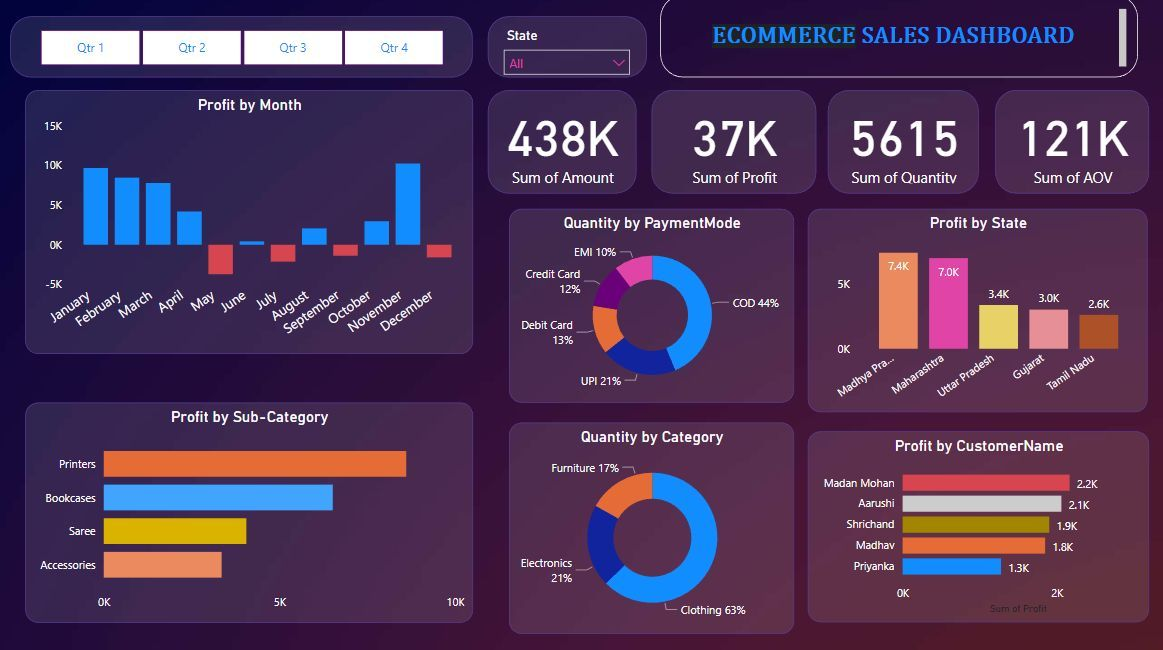

Layout of this report page (visuals, bound fields, positions):
{"tool":"powerbi","page":{"name":"Page 1","canvas":[1280,720],"ordinal":0},"visuals":[{"type":"clusteredColumnChart","title":"Profit by Month","fields":{"Y":["Details.Profit"],"Category":["Orders.Order Date.Variation.Date Hierarchy.Month"]},"box":[28.8,104.2,490.8,289.3],"z":0},{"type":"textbox","box":[725.3,0,523.7,90.5],"z":1000},{"type":"barChart","title":"Profit by Sub-Category","fields":{"Category":["Details.Sub-Category"],"Y":["Details.Profit"]},"box":[28.8,447,490.8,241.3],"z":2000},{"type":"donutChart","title":"Quantity by Category","fields":{"Category":["Details.Category"],"Y":["Details.Quantity"]},"box":[559.4,468.9,312.6,231.7],"z":3000},{"type":"donutChart","title":"Quantity by PaymentMode","fields":{"Category":["Details.PaymentMode","Details.Category"],"Y":["Details.Quantity"]},"box":[559.4,234.4,312.6,212.5],"z":4000},{"type":"card","fields":{"Values":["Details.Amount"]},"box":[536.1,104.2,163.2,113.8],"z":5000},{"type":"card","fields":{"Values":["Details.Profit"]},"box":[715.7,104.2,181,113.8],"z":6000},{"type":"card","fields":{"Values":["Details.Quantity"]},"box":[909,104.2,165.9,113.8],"z":7000},{"type":"card","fields":{"Values":["Details.AOV"]},"box":[1092.7,104.2,168.6,113.8],"z":8000},{"type":"slicer","fields":{"Values":["Orders.Order Date.Variation.Date Hierarchy.Quarter"]},"box":[12.3,23.3,507.3,67.2],"z":9000},{"type":"barChart","title":"Profit by CustomerName","fields":{"Y":["Details.Profit"],"Category":["Orders.CustomerName"]},"box":[887.1,478.5,374.3,209.8],"z":10000},{"type":"columnChart","title":"Profit by State","fields":{"Y":["Details.Profit"],"Category":["Orders.State"]},"box":[887.1,234.4,372.9,223.5],"z":11000},{"type":"slicer","fields":{"Values":["Orders.State"]},"box":[536.1,23.3,174.1,67.2],"z":12000}]}

Visuals, with their boxes in screenshot pixels (x1, y1, x2, y2), scaled from the page's 1280x720 canvas onto the 1163x650 screenshot:
"Profit by Month" clusteredColumnChart: Rect(26, 94, 472, 355)
textbox: Rect(659, 0, 1135, 82)
"Profit by Sub-Category" barChart: Rect(26, 404, 472, 621)
"Quantity by Category" donutChart: Rect(508, 423, 792, 632)
"Quantity by PaymentMode" donutChart: Rect(508, 212, 792, 403)
card - Details.Amount: Rect(487, 94, 635, 197)
card - Details.Profit: Rect(650, 94, 815, 197)
card - Details.Quantity: Rect(826, 94, 977, 197)
card - Details.AOV: Rect(993, 94, 1146, 197)
slicer - Orders.Order Date.Variation.Date Hierarchy.Quarter: Rect(11, 21, 472, 82)
"Profit by CustomerName" barChart: Rect(806, 432, 1146, 621)
"Profit by State" columnChart: Rect(806, 212, 1145, 413)
slicer - Orders.State: Rect(487, 21, 645, 82)
